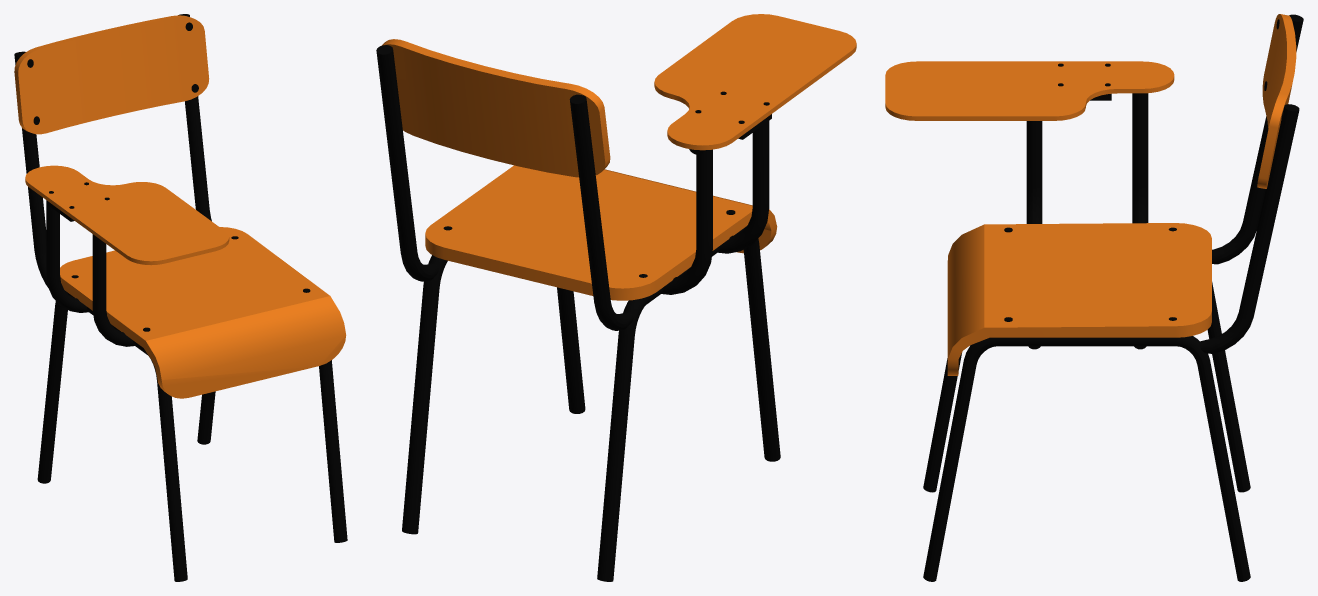
File: krzeso.fbx
3 views of the same model, side by side, from view 1: azimuth 30°, elevation 25°; view 2: azimuth 150°, elevation 25°; view 3: azimuth 270°, elevation 25° (orthographic). The views are drawn at different scales.
Visible parts, largest first — view 1: krzeso; view 2: krzeso; view 3: krzeso.
Part boxes in pixels (<box>): krzeso: <box>14,14,347,581</box>; krzeso: <box>376,14,856,581</box>; krzeso: <box>885,14,1303,581</box>.
Bounding box in the file's own units: 58.16 × 99.69 × 78.99.
